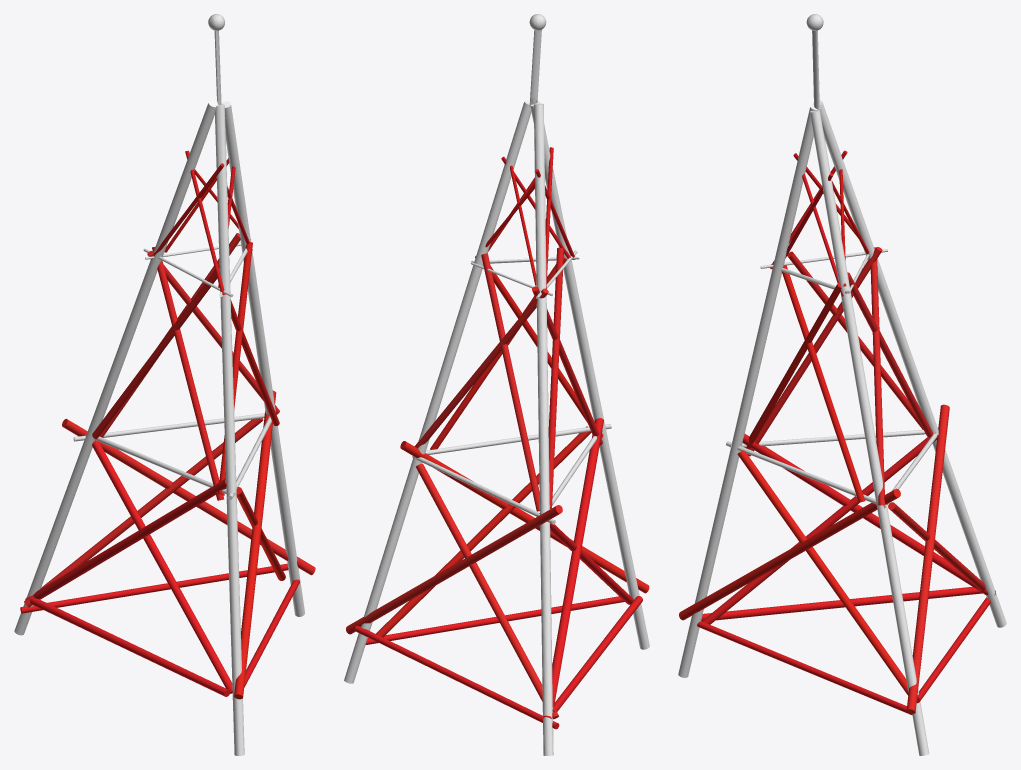
The model's file is radiotower NEW.fbx.
3 renders of one model, left to right at view 1: azimuth 30°, elevation 25°; view 2: azimuth 150°, elevation 25°; view 3: azimuth 270°, elevation 25°, orthographic.
Visible parts, largest first — view 1: Cylinder, Cylinder.003, Cylinder.006, Cylinder.005, Cylinder.007, Cylinder.001, Cylinder.009, Cylinder.008, Cylinder.012, Cylinder.002, Cylinder.011; view 2: Cylinder, Cylinder.003, Cylinder.006, Cylinder.005, Cylinder.008, Cylinder.001, Cylinder.007, Cylinder.009, Cylinder.012, Cylinder.011, Cylinder.002; view 3: Cylinder, Cylinder.003, Cylinder.005, Cylinder.006, Cylinder.009, Cylinder.008, Cylinder.001, Cylinder.007, Cylinder.010, Cylinder.002, Cylinder.011.
Boxes of the visible parts, x1,y1,x2,y2 form: Cylinder: (14, 101, 304, 755); Cylinder.003: (20, 440, 299, 696); Cylinder.006: (24, 418, 315, 607); Cylinder.005: (234, 390, 285, 699); Cylinder.007: (92, 247, 224, 500); Cylinder.001: (73, 14, 271, 499); Cylinder.009: (218, 242, 279, 495); Cylinder.008: (99, 233, 279, 437); Cylinder.012: (153, 150, 225, 294); Cylinder.002: (143, 242, 251, 297); Cylinder.011: (164, 158, 250, 252); Cylinder: (344, 100, 649, 755); Cylinder.003: (354, 418, 642, 729); Cylinder.006: (346, 463, 562, 719); Cylinder.005: (376, 426, 649, 637); Cylinder.008: (414, 253, 548, 511); Cylinder.001: (412, 14, 611, 524); Cylinder.007: (532, 247, 602, 508); Cylinder.009: (430, 257, 603, 449); Cylinder.012: (535, 147, 574, 288); Cylinder.011: (475, 165, 536, 285); Cylinder.002: (470, 250, 579, 298); Cylinder: (678, 100, 1006, 755); Cylinder.003: (697, 433, 995, 715); Cylinder.005: (679, 450, 908, 695); Cylinder.006: (888, 404, 985, 714); Cylinder.009: (745, 265, 865, 502); Cylinder.008: (847, 247, 932, 505); Cylinder.001: (726, 14, 938, 508); Cylinder.007: (747, 247, 923, 456); Cylinder.010: (785, 173, 843, 296); Cylinder.002: (760, 249, 887, 293); Cylinder.011: (832, 169, 869, 286).
Size of the model in its own units: 3475 by 8898 by 3881.
